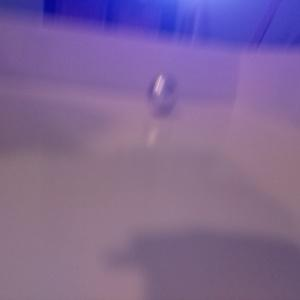alive_ball: (148, 73, 175, 115)
